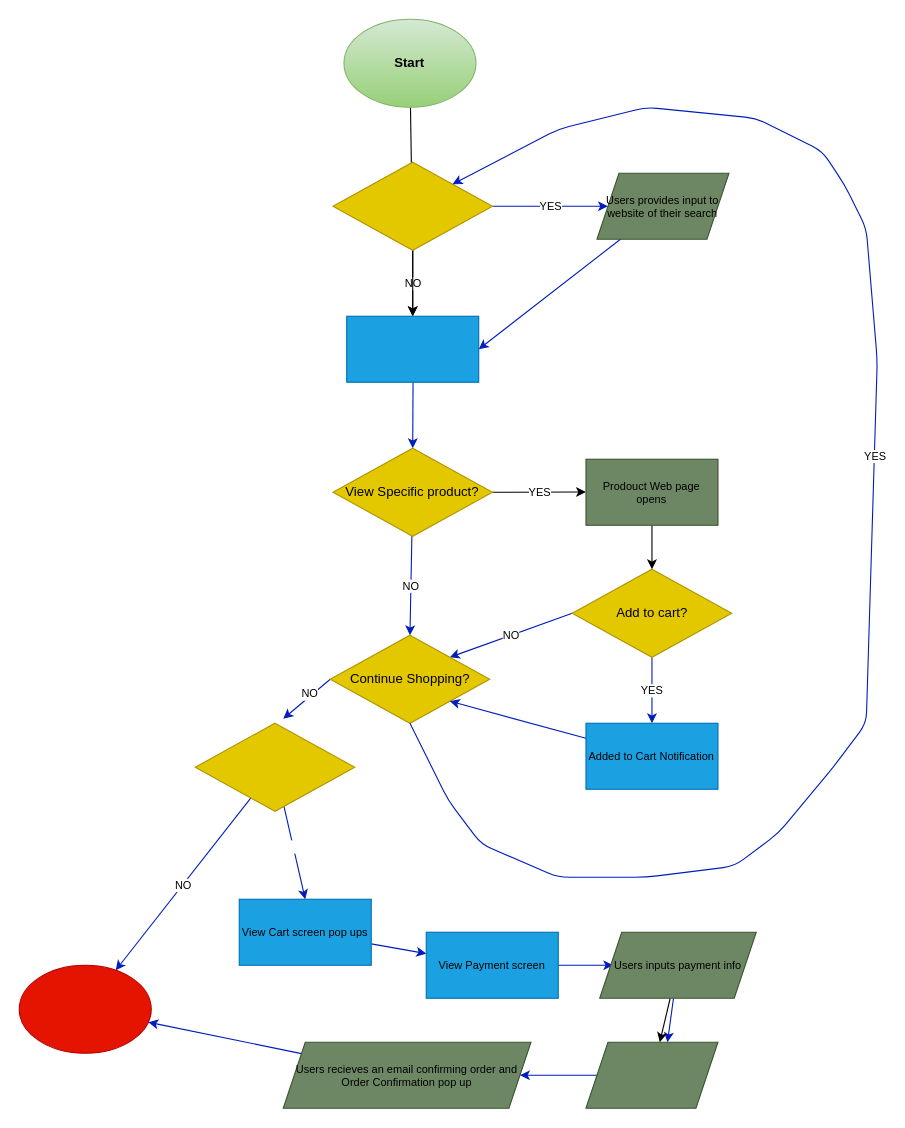
Some shapes in this 905 by 1128 pixel diagram are drawn without their labels. Here are the shapes that lost their labels. From the top down, the box of each, then its label:
(332, 161, 492, 250): Search for a product or explore prodcuts on home page
(346, 315, 479, 382): Users will look over the products
(194, 722, 355, 811): Check out ?
(18, 964, 151, 1053): END (leave website)
(585, 1041, 718, 1108): Recieve paymetnt from user
